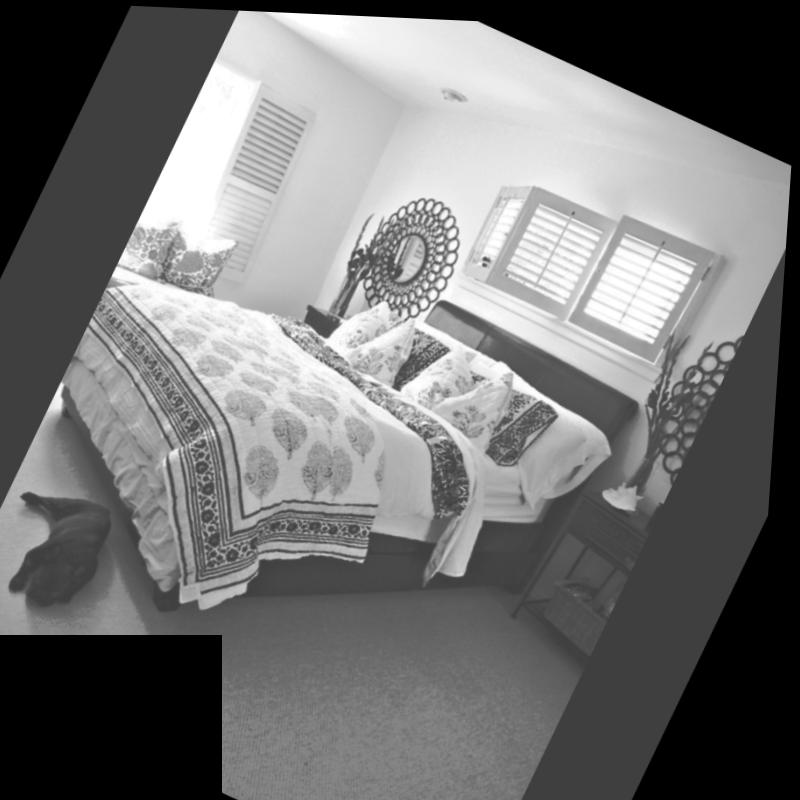pillow: (442, 353, 640, 523), (383, 337, 547, 477), (322, 275, 427, 387), (363, 310, 449, 401), (157, 215, 240, 295), (122, 203, 203, 281)
